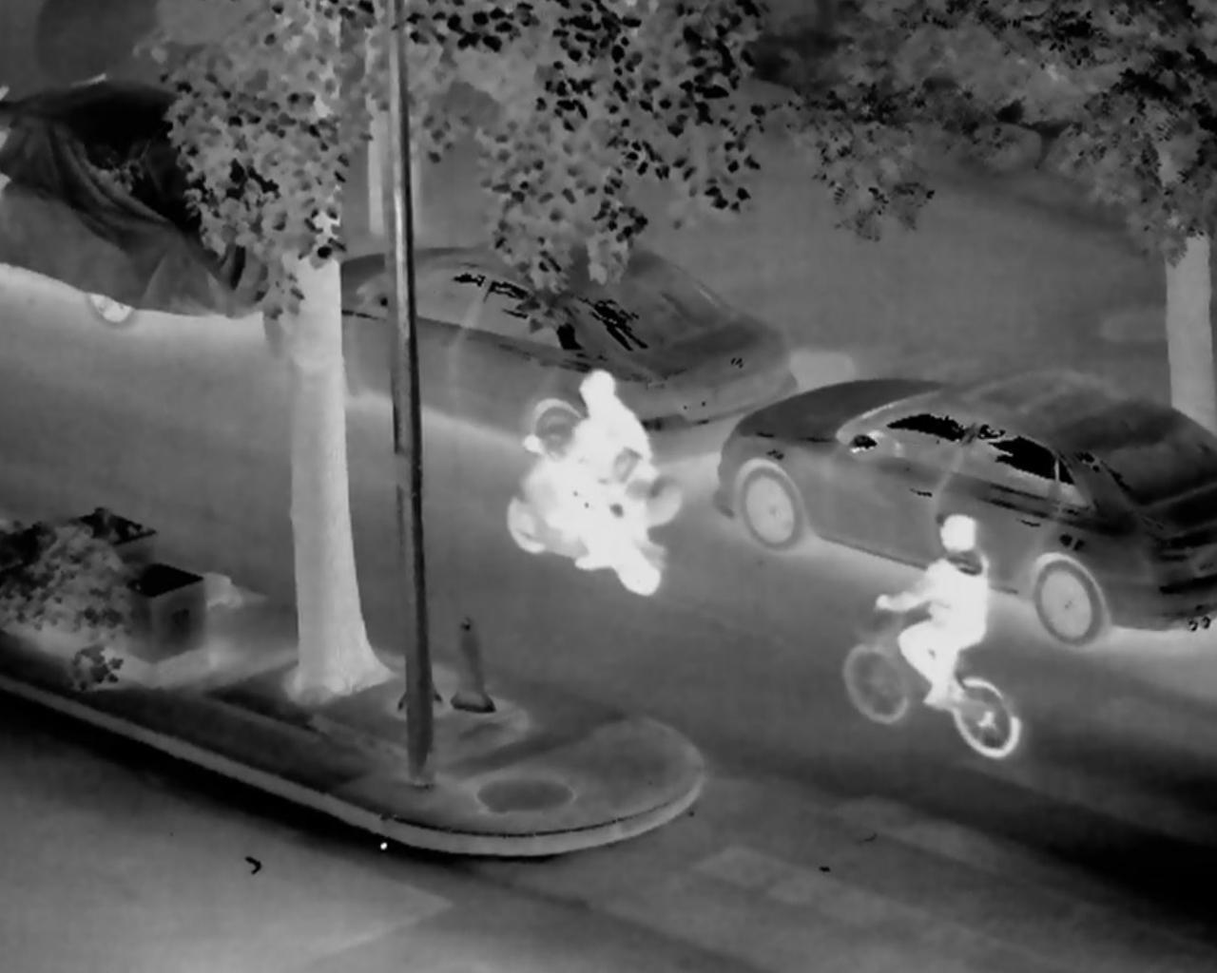person: (871, 502, 989, 705), (547, 365, 655, 573)
